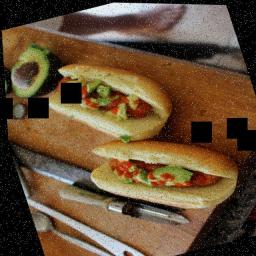hotdog: (79, 114, 241, 230), (30, 39, 182, 156)
